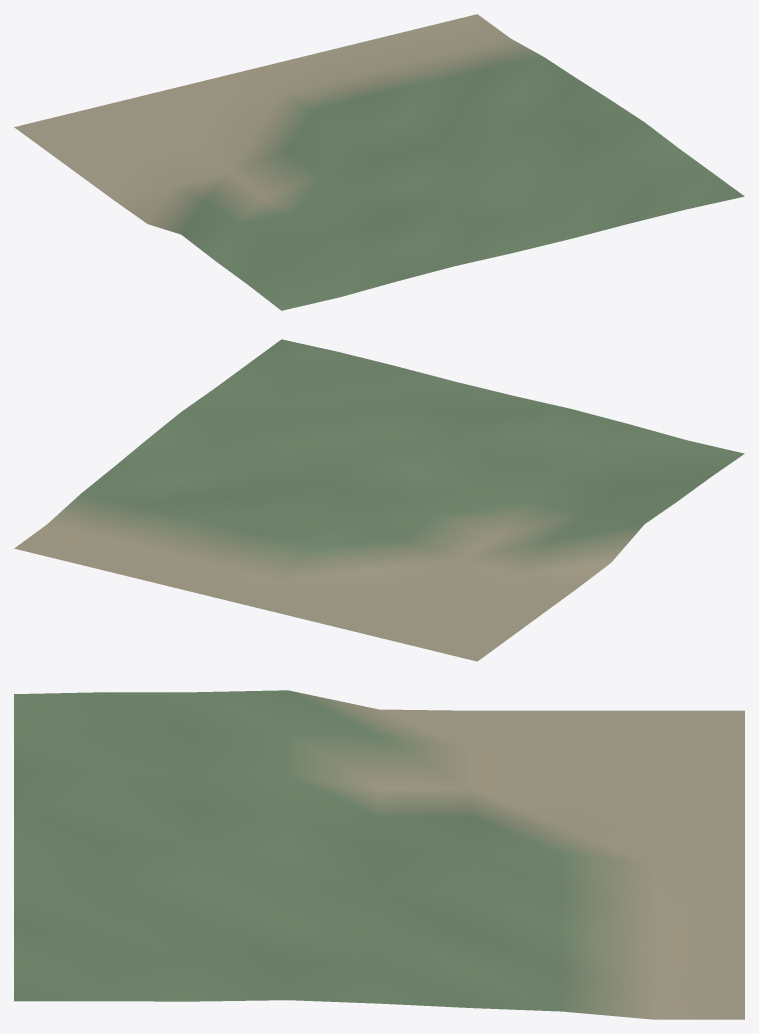
3 renders of one model, top to bottom at view 1: azimuth 30°, elevation 25°; view 2: azimuth 150°, elevation 25°; view 3: azimuth 270°, elevation 25°, orthographic. The views are drawn at different scales.
Parts seen in each view (by area): view 1: Lo; view 2: Lo; view 3: Lo.
Part boxes in pixels (x1=…): Lo: x1=14, y1=14, x2=744, y2=310; Lo: x1=14, y1=339, x2=744, y2=661; Lo: x1=14, y1=690, x2=744, y2=1019.
Bounding box in the file's own units: 256 × 7.9 × 256.
